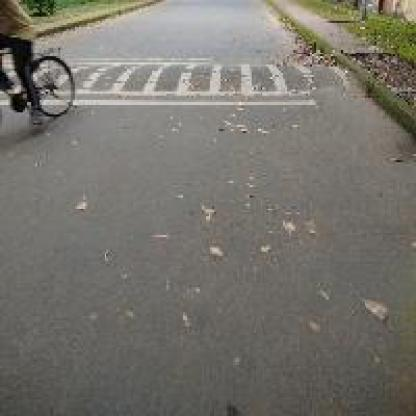Speed Bump: (83, 60, 358, 102)
